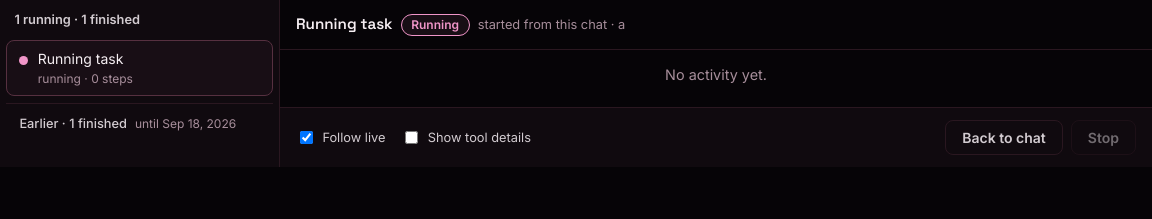
Test: HelpersContainer › the Earlier group › selecting an item in the Earlier group still shows its thread
This screenshot has width=1152, height=219.
Click the button "Earlier · 1 finished until Sep 18, 2026". click: coordinates (140, 123)
box: [6,107,273,140]
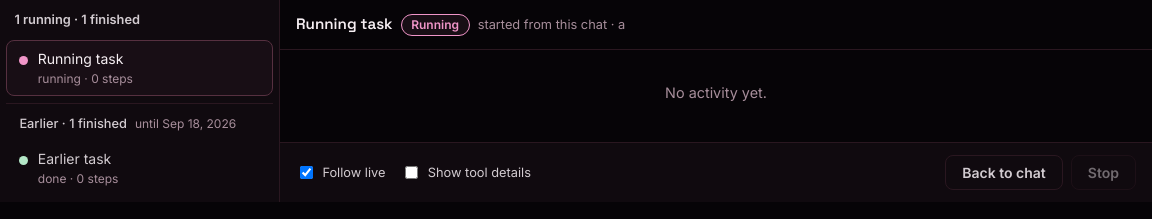
Click the text "Earlier task". click: coordinates (78, 159)
box: [38,150,118,167]
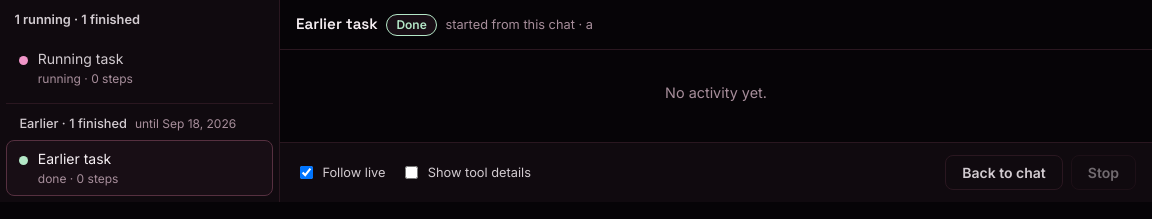
Expected: the heading "Earlier task" is shown, [296,14,378,33]
